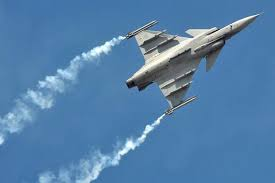fighter: (119, 8, 265, 118)
